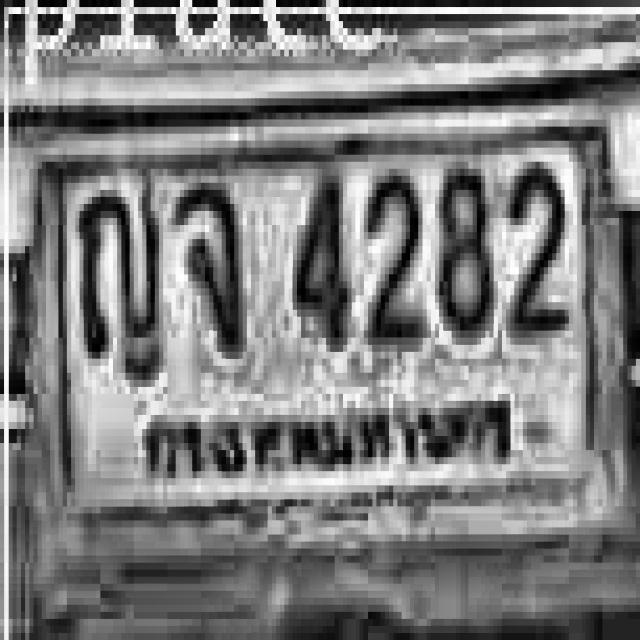license-plate: (23, 109, 628, 558)
